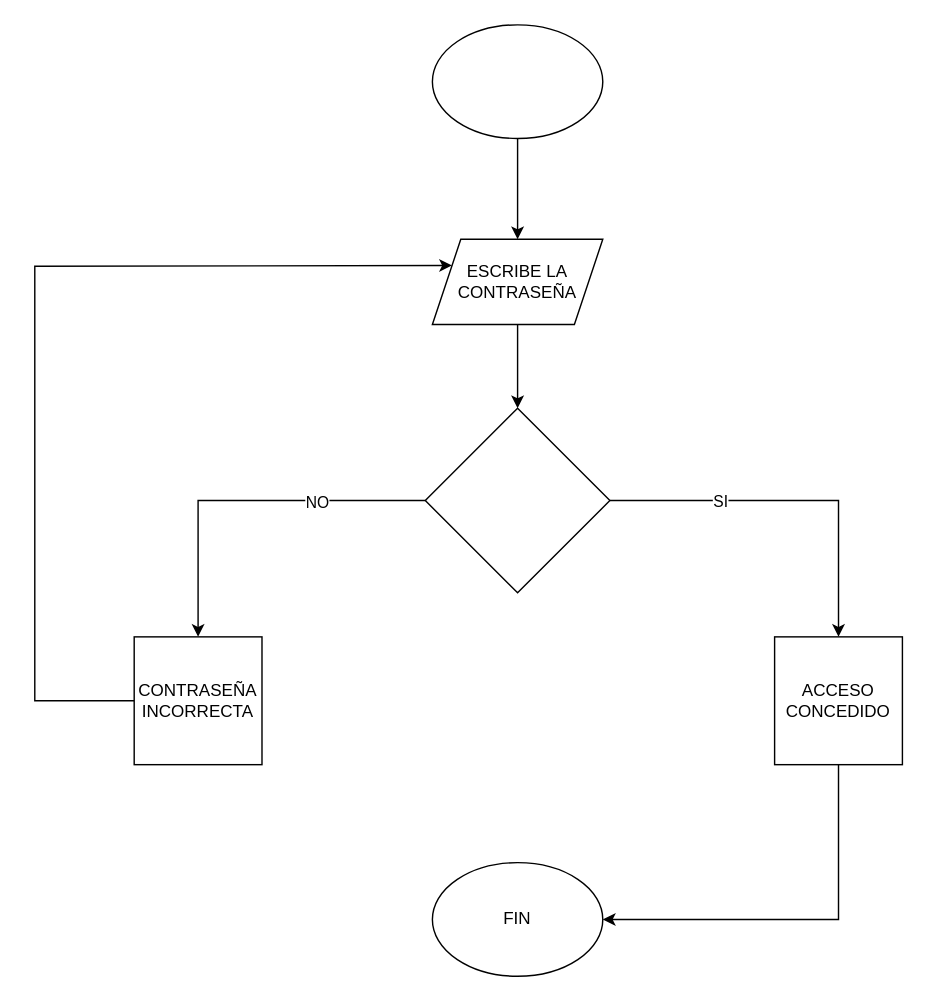
The diagram is 927 pixels wide and 1001 high, and some of its shapes have lost their labels. Here are the shapes that lost their labels. From the top down, the box of each, then its label:
(431, 23, 603, 138): INICIO
(424, 407, 610, 593): ES CORRECTA
